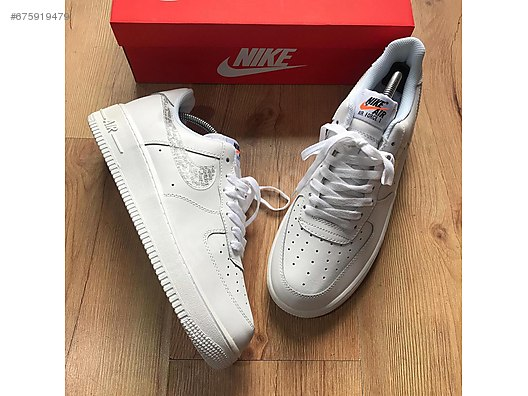nike: (156, 100, 219, 191)
